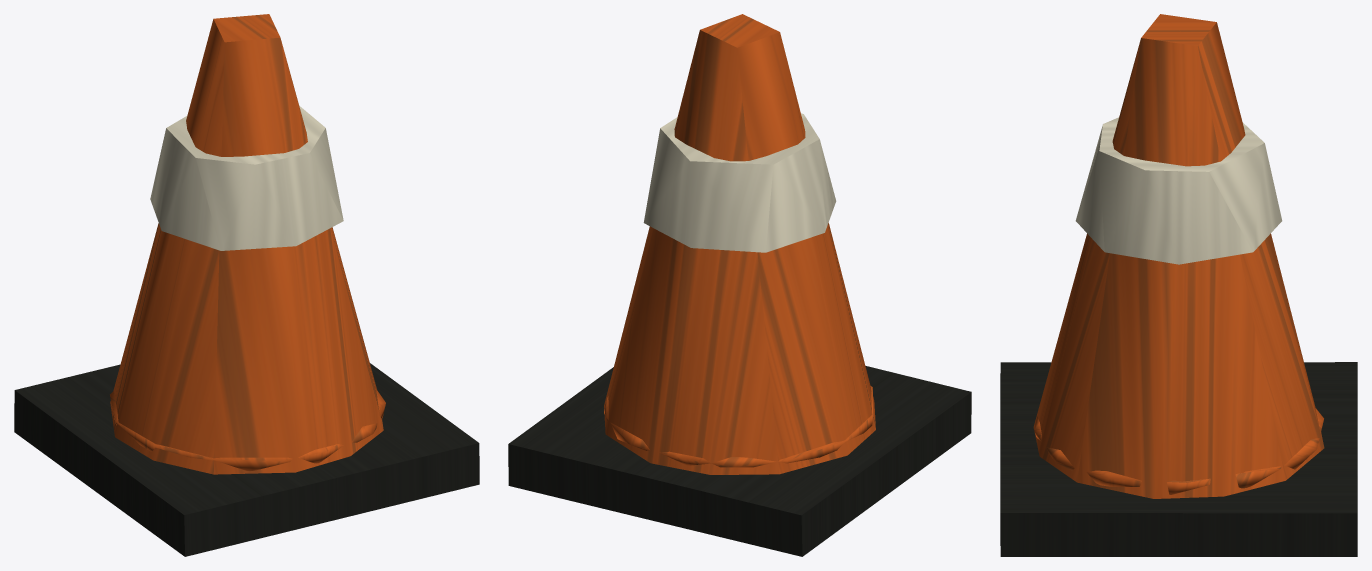
Rendered from traffic-cone-lod.obj.
3 renders of one model, left to right at view 1: azimuth 30°, elevation 25°; view 2: azimuth 150°, elevation 25°; view 3: azimuth 270°, elevation 25°, orthographic. The views are drawn at different scales.
Visible parts, largest first — view 1: traffic-cone.001; view 2: traffic-cone.001; view 3: traffic-cone.001.
Part boxes in pixels (left/top/right/bottom): traffic-cone.001: left=14, top=14, right=479, bottom=556; traffic-cone.001: left=508, top=14, right=971, bottom=556; traffic-cone.001: left=1000, top=14, right=1357, bottom=556.
Bounding box in the file's own units: 0.5098 × 0.7099 × 0.5094.
Materials: 1 (1 with a texture image).
